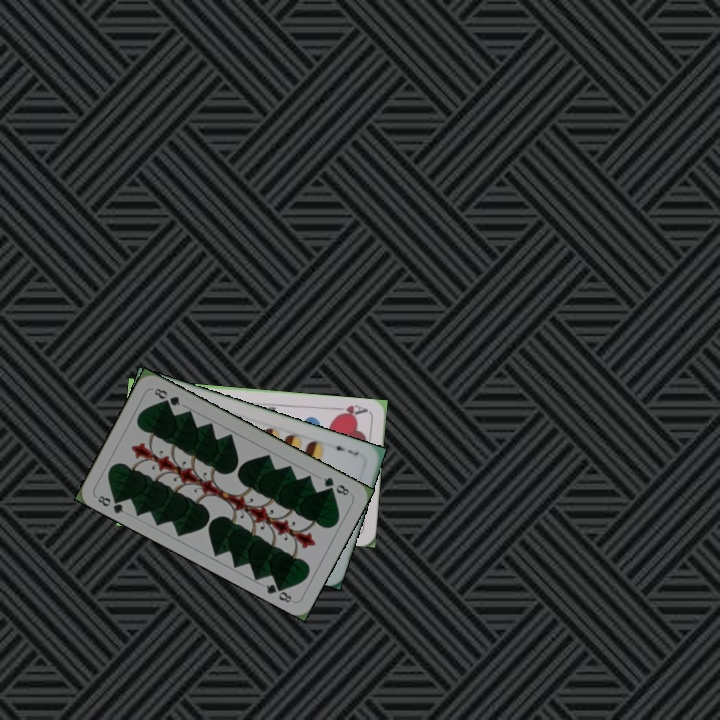E7: (328, 440, 361, 458)
G8: (319, 473, 353, 498), (93, 491, 126, 516)
HA: (330, 401, 370, 420)
